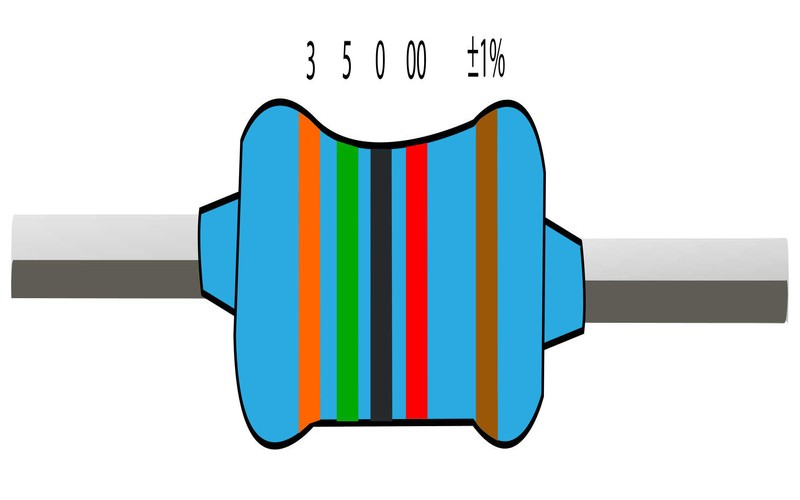Resistor: (179, 85, 596, 471)
